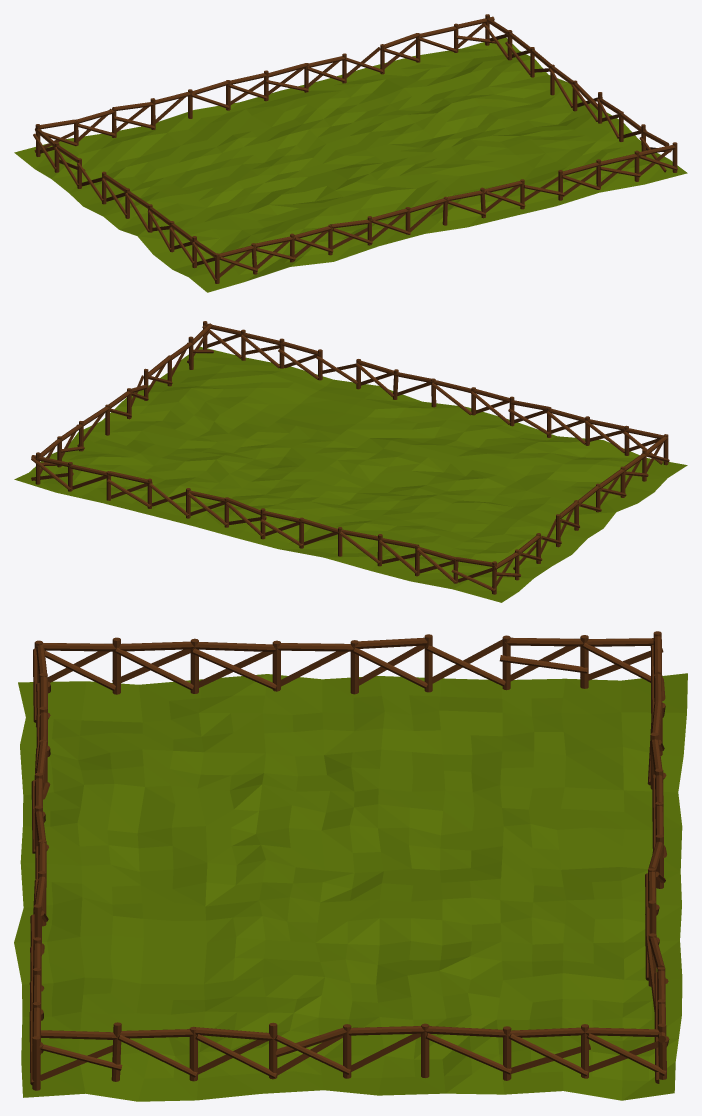
Rendered from fence.glb.
3 renders of one model, top to bottom at view 1: azimuth 30°, elevation 25°; view 2: azimuth 150°, elevation 25°; view 3: azimuth 270°, elevation 25°, orthographic. The views are drawn at different scales.
Parts seen in each view (by area): view 1: ground, fencebottom, fencetop, fenceleft, fenceright; view 2: ground, fencetop, fencebottom, fenceleft, fenceright; view 3: ground, fenceright, fenceleft, fencebottom, fencetop.
Part boxes in pixels (box(x1,y1,x2,y2)): ground: box(14, 37, 687, 292); fencebottom: box(219, 142, 677, 277); fencetop: box(34, 16, 495, 156); fenceleft: box(33, 128, 219, 283); fenceright: box(483, 14, 671, 172); ground: box(14, 347, 687, 602); fencetop: box(31, 455, 496, 594); fencebottom: box(202, 321, 663, 464); fenceleft: box(491, 434, 669, 591); fenceright: box(34, 323, 213, 484); ground: box(14, 673, 687, 1101); fenceright: box(40, 1022, 666, 1081); fenceleft: box(34, 634, 663, 694); fencebottom: box(29, 645, 50, 1090); fencetop: box(645, 631, 669, 1083).
Bounding box in the file's own units: 24.21 × 1.69 × 16.33.
